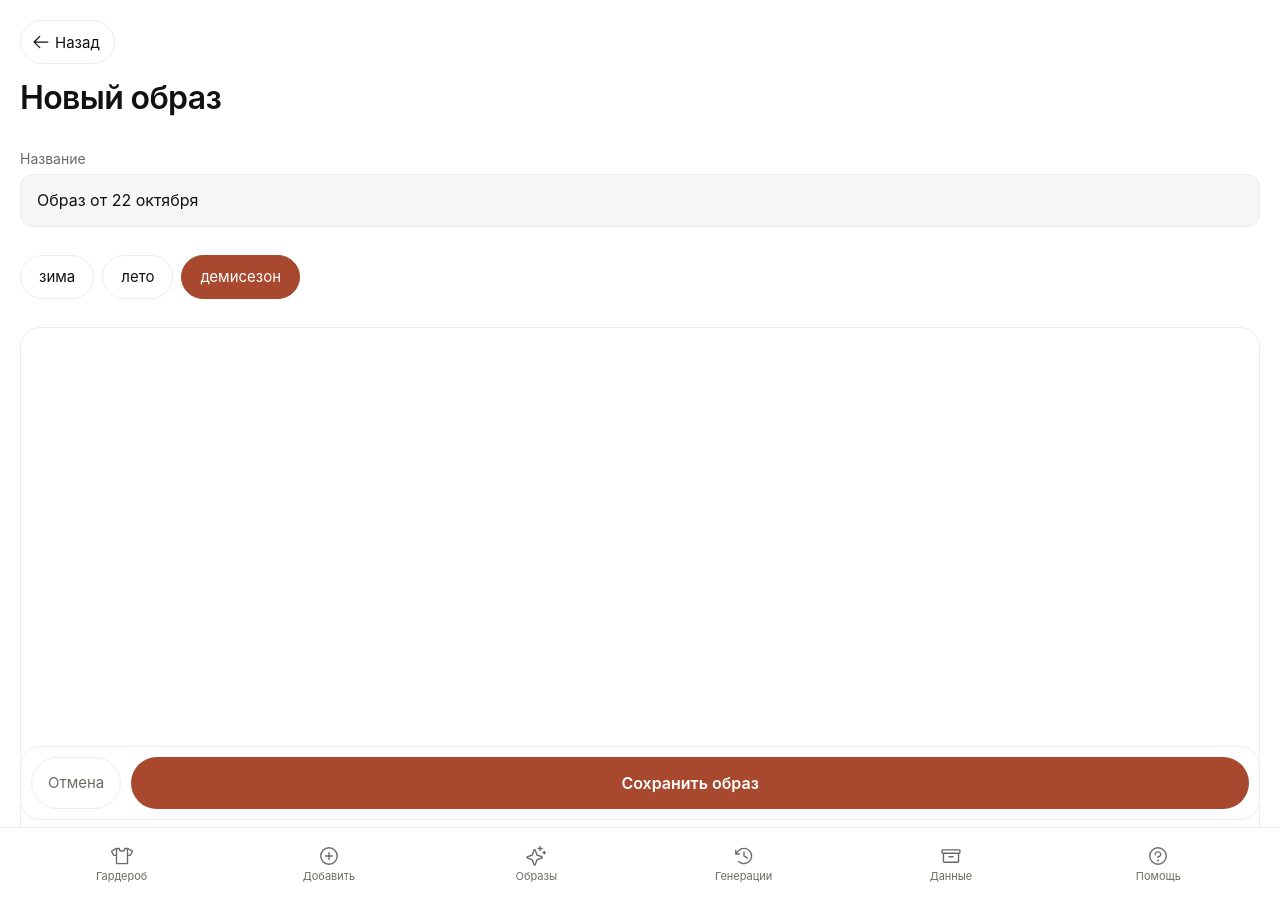
Test: Редактор коллажа (T16) и пикер вещей (T17) › несохранённые правки перехватывают «Назад»; Escape оставляет в редакторе
Replace the text in the field named "Название образа" with "Вечерний" at (640, 201), box [20,174,1260,227]
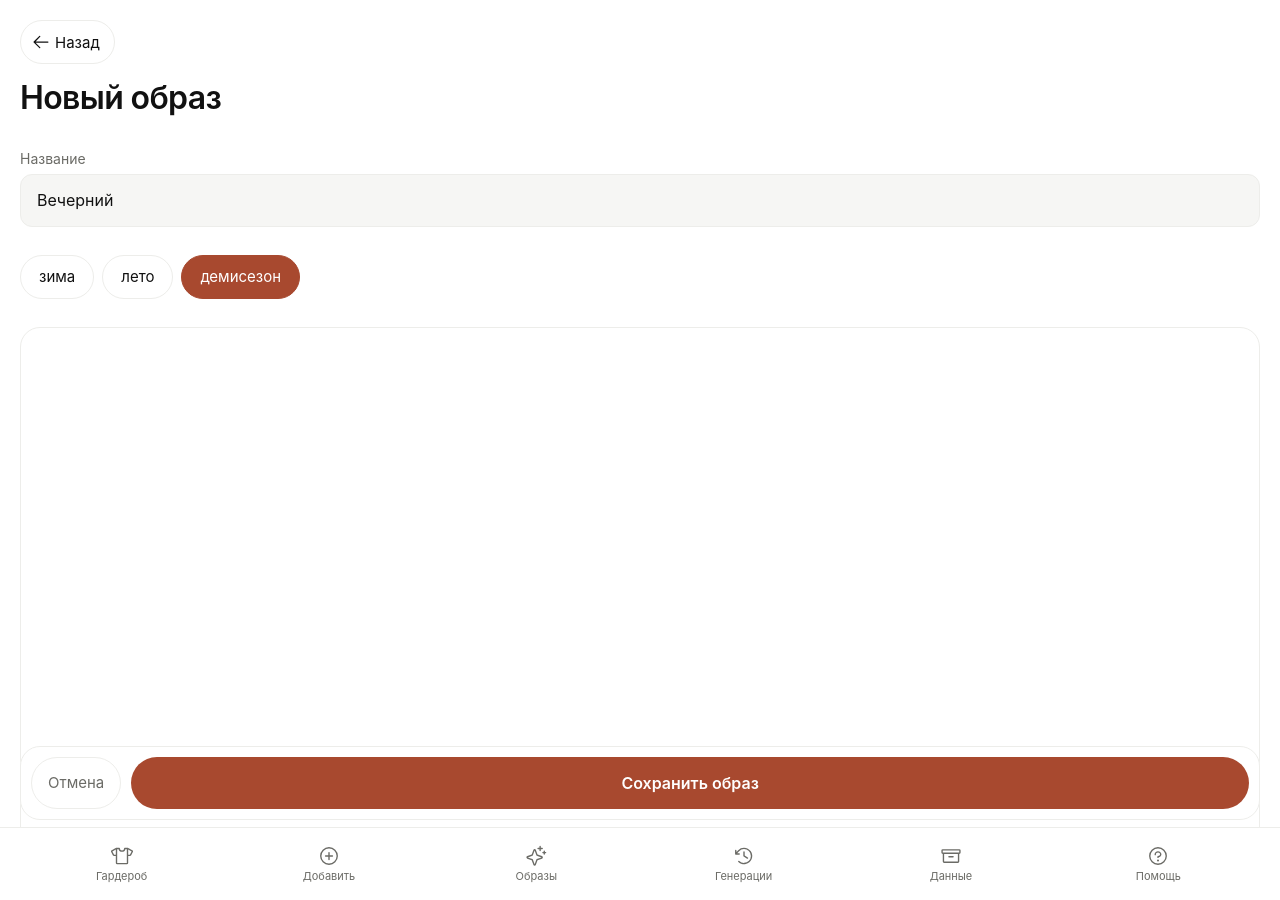
Click the button "Назад" at (67, 42), box [20,20,115,64]
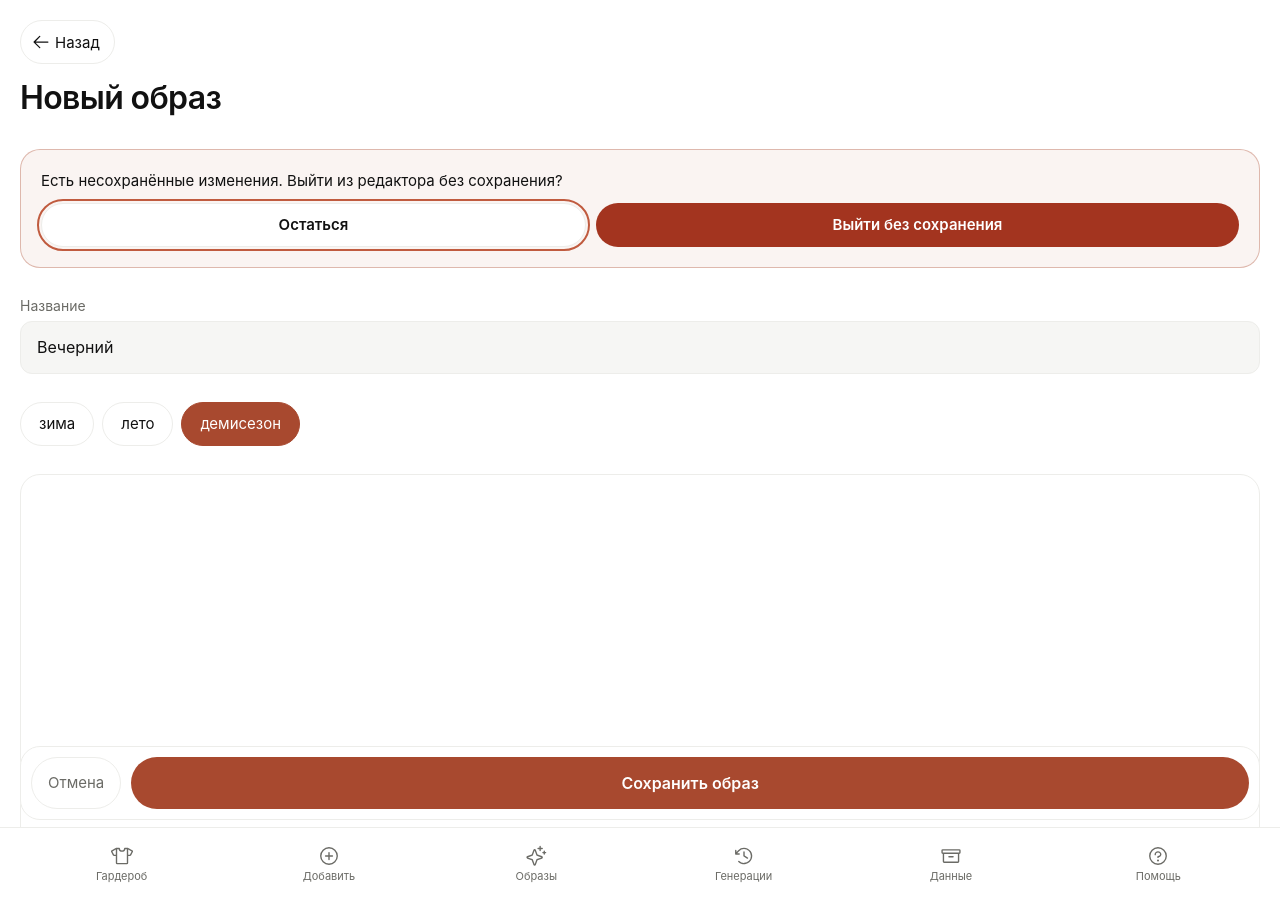
Press Escape in the dialog "несохранённые изменения", box [20,149,1260,268]
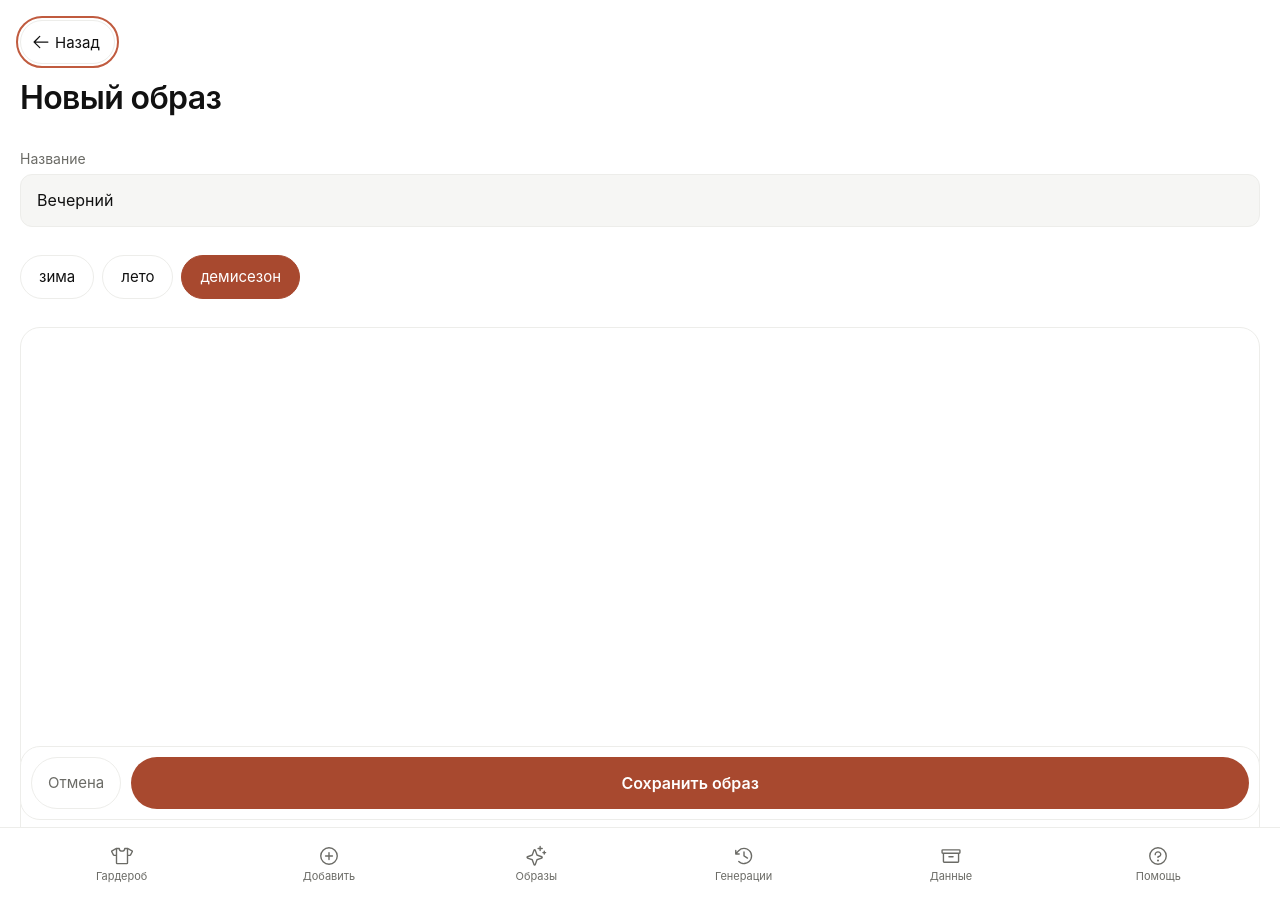
expect the dialog "Несохранённые изменения" is not shown: met
expect the heading "Новый образ" is shown: met, box [20,76,221,121]
Click the button "Назад" at (67, 42), box [20,20,115,64]
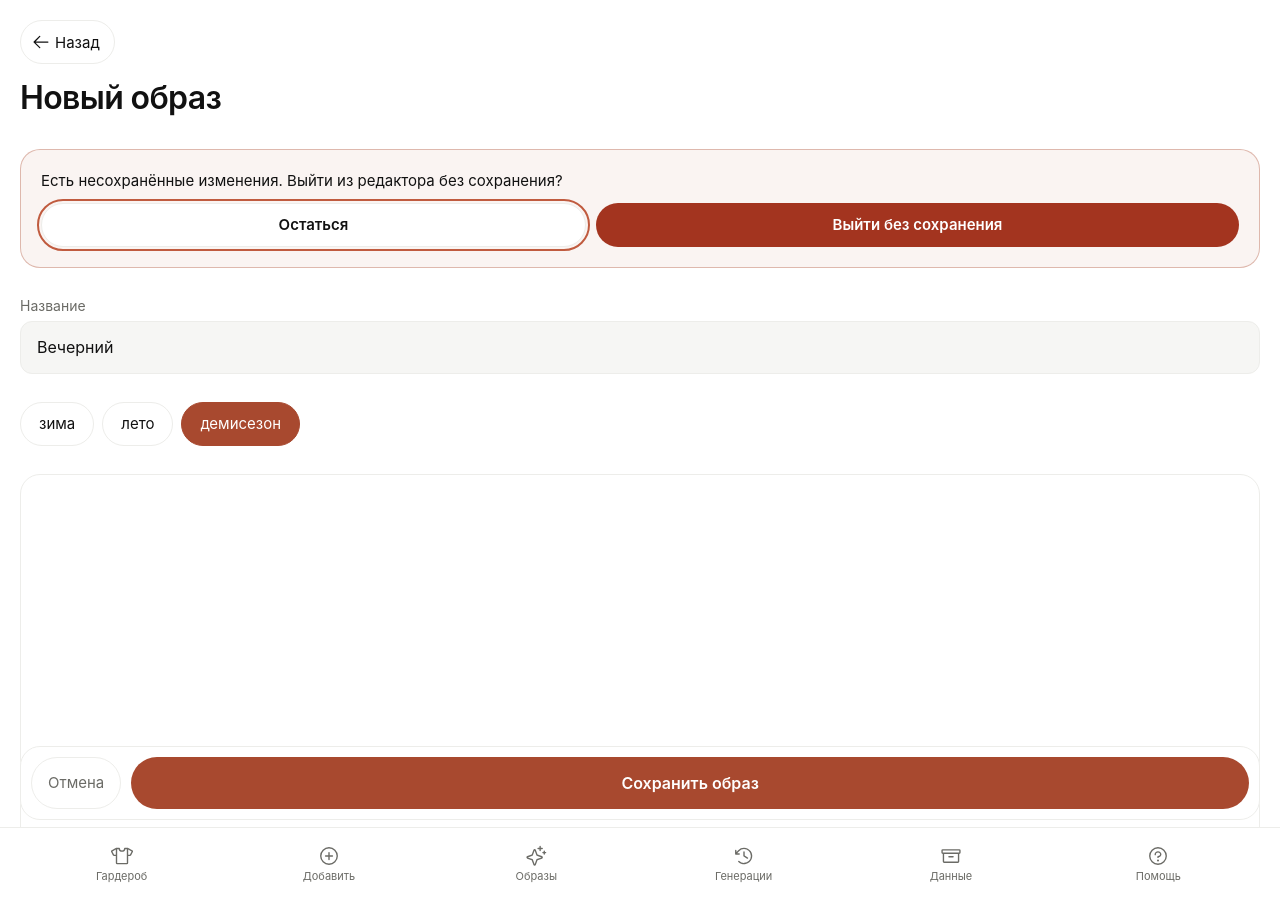
Click the button "Выйти без сохранения" at (917, 225), box [596,203,1239,247]
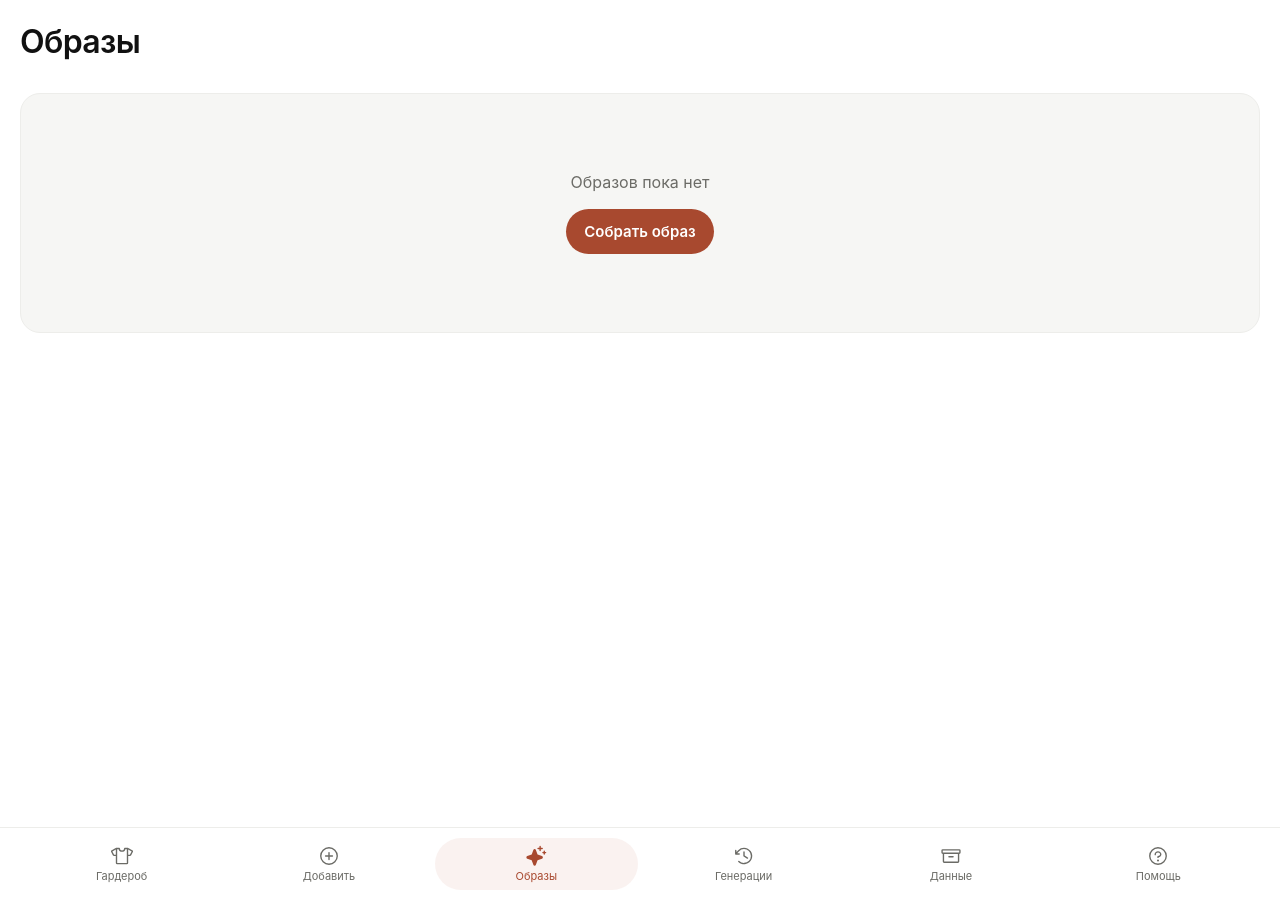
expect the heading "Образы" is shown: met, box [20,20,140,65]
